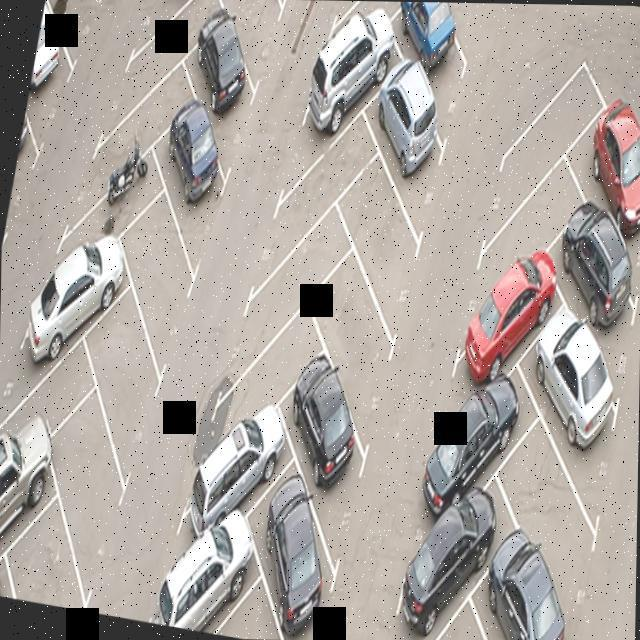car: (399, 364, 532, 530), (182, 384, 292, 570), (247, 438, 348, 640), (275, 335, 381, 522), (526, 322, 636, 502), (444, 245, 554, 418), (385, 479, 499, 640), (20, 219, 130, 375), (154, 488, 262, 637), (172, 4, 279, 150), (149, 88, 246, 248), (69, 124, 172, 272), (549, 202, 640, 364), (295, 13, 391, 163), (366, 54, 459, 204), (470, 532, 594, 640), (568, 105, 640, 241), (0, 418, 54, 592), (19, 0, 80, 149), (396, 1, 488, 64), (154, 0, 239, 14), (0, 534, 17, 596)
free: (494, 420, 621, 618), (222, 258, 346, 441), (81, 38, 199, 208), (492, 57, 604, 226), (75, 277, 180, 456), (304, 245, 408, 421), (37, 392, 144, 556), (250, 181, 358, 343), (112, 192, 210, 366), (474, 161, 584, 314), (272, 94, 376, 252), (340, 153, 426, 311), (0, 332, 90, 479), (15, 476, 104, 610), (122, 0, 221, 112), (223, 557, 326, 640), (201, 0, 299, 60), (385, 594, 493, 640), (35, 0, 106, 61), (333, 0, 424, 44)
